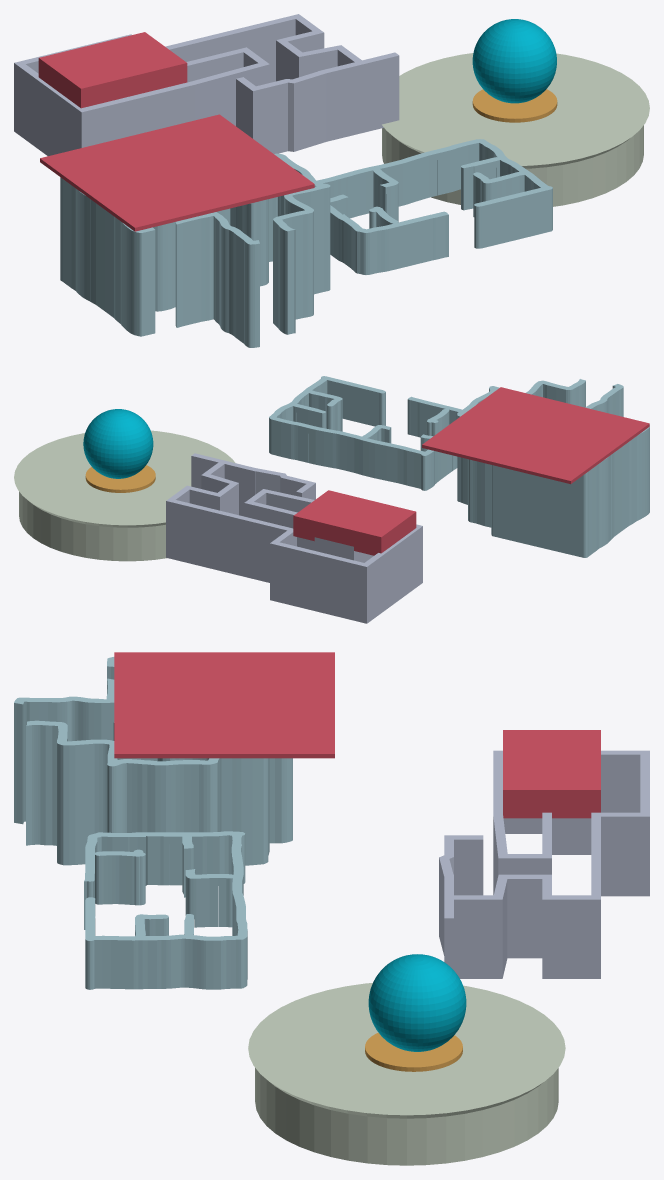
The picture shows the model from 3 angles, top to bottom: view 1: azimuth 30°, elevation 25°; view 2: azimuth 150°, elevation 25°; view 3: azimuth 270°, elevation 25°; orthographic projection. The views are drawn at different scales.
Visible parts, largest first — view 1: Mesh_Mesh_head_geo.001_lambert2SG.001; view 2: Mesh_Mesh_head_geo.001_lambert2SG.001; view 3: Mesh_Mesh_head_geo.001_lambert2SG.001.
Boxes of the visible parts, left/top/right/bottom form: Mesh_Mesh_head_geo.001_lambert2SG.001: left=14, top=14, right=649, bottom=347; Mesh_Mesh_head_geo.001_lambert2SG.001: left=14, top=376, right=649, bottom=623; Mesh_Mesh_head_geo.001_lambert2SG.001: left=14, top=652, right=649, bottom=1165.
Size of the model in its own units: 0.1705 by 0.044 by 0.1298.
